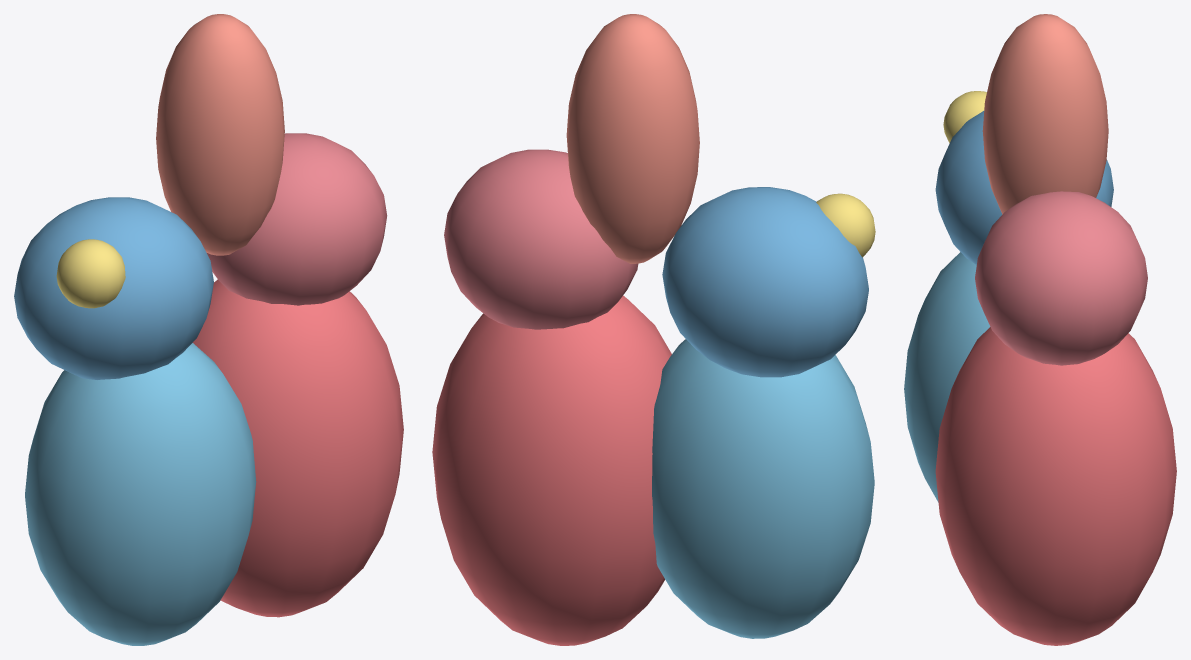
Rendered from cor_chambers_low_v1.glb.
The picture shows the model from 3 angles, left to right: view 1: azimuth 30°, elevation 25°; view 2: azimuth 150°, elevation 25°; view 3: azimuth 270°, elevation 25°; orthographic projection. The views are drawn at different scales.
Parts seen in each view (by area): view 1: Ventriculus_Dexter, Ventriculus_Sinister, Atrium_Dextrum, Arcus_Aortae, Atrium_Sinistrum, Nodus_Sinuatrialis; view 2: Ventriculus_Sinister, Ventriculus_Dexter, Atrium_Dextrum, Arcus_Aortae, Atrium_Sinistrum, Nodus_Sinuatrialis; view 3: Ventriculus_Sinister, Atrium_Sinistrum, Arcus_Aortae, Ventriculus_Dexter, Atrium_Dextrum, Nodus_Sinuatrialis.
Part boxes in pixels (left/top/right/bottom): Ventriculus_Dexter: left=25, top=343, right=256, bottom=645; Ventriculus_Sinister: left=192, top=279, right=403, bottom=617; Atrium_Dextrum: left=14, top=197, right=213, bottom=379; Arcus_Aortae: left=156, top=14, right=284, bottom=255; Atrium_Sinistrum: left=207, top=133, right=387, bottom=305; Nodus_Sinuatrialis: left=56, top=239, right=125, bottom=308; Ventriculus_Sinister: left=432, top=295, right=671, bottom=645; Ventriculus_Dexter: left=652, top=339, right=874, bottom=638; Atrium_Dextrum: left=662, top=187, right=868, bottom=377; Arcus_Aortae: left=566, top=14, right=699, bottom=263; Atrium_Sinistrum: left=444, top=149, right=638, bottom=329; Nodus_Sinuatrialis: left=816, top=193, right=875, bottom=257; Ventriculus_Sinister: left=935, top=327, right=1176, bottom=645; Atrium_Sinistrum: left=975, top=191, right=1147, bottom=365; Arcus_Aortae: left=982, top=14, right=1108, bottom=214; Ventriculus_Dexter: left=904, top=252, right=990, bottom=502; Atrium_Dextrum: left=935, top=111, right=1113, bottom=264; Nodus_Sinuatrialis: left=943, top=91, right=986, bottom=143.
Size of the model in its own units: 1.62 by 2.49 by 1.04.
